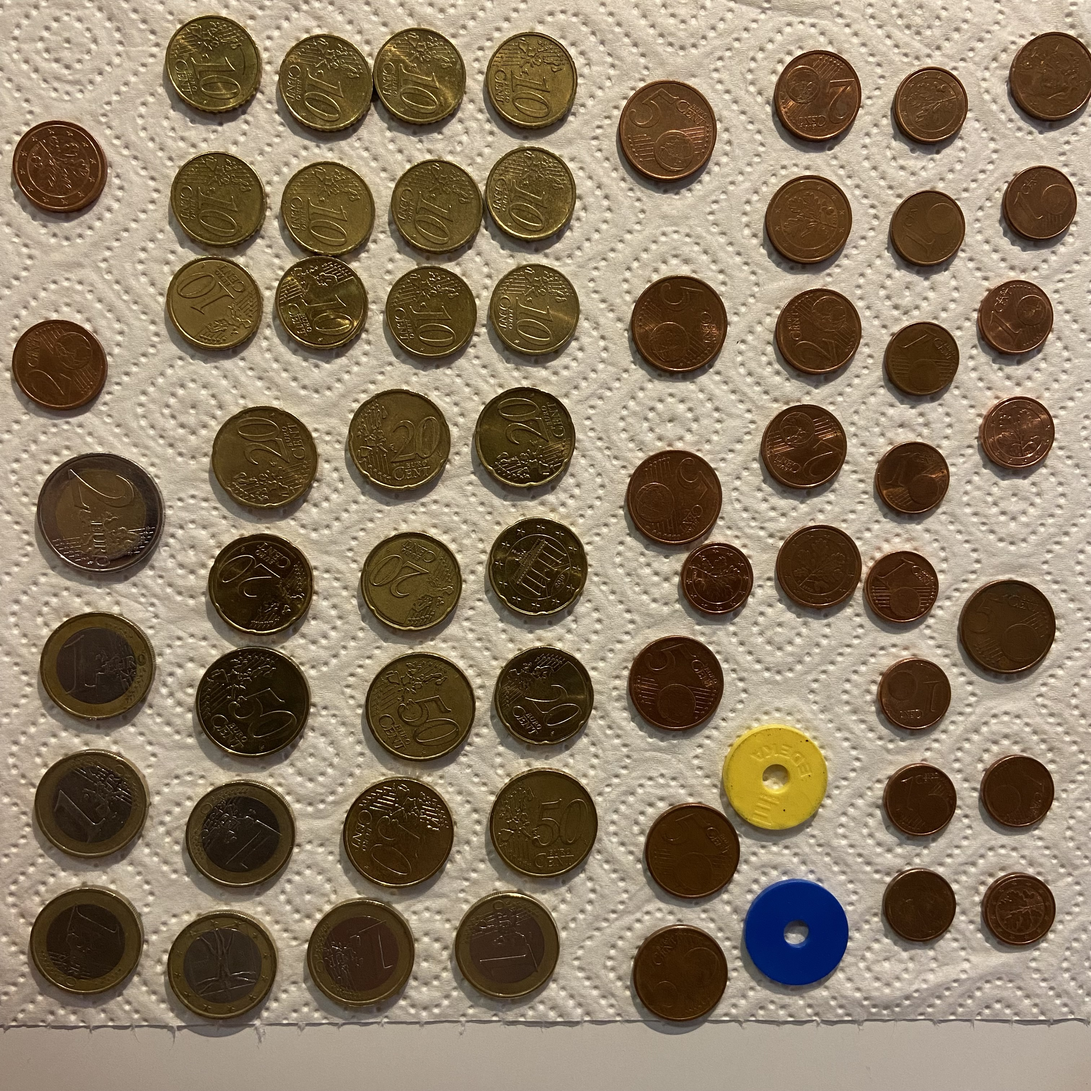1 cent: (889, 187, 967, 265), (884, 319, 962, 397), (975, 280, 1053, 358), (980, 392, 1058, 470), (874, 438, 952, 516), (863, 548, 941, 626), (892, 67, 968, 144), (1002, 166, 1077, 240), (884, 765, 958, 838), (981, 870, 1055, 943), (883, 869, 957, 942), (877, 658, 951, 730), (980, 756, 1054, 828), (681, 542, 753, 615)
1 euro: (34, 750, 149, 858), (40, 613, 155, 719), (30, 887, 143, 994), (303, 899, 413, 1008), (167, 911, 277, 1019), (455, 892, 564, 1000), (186, 781, 295, 886)
10 cent: (165, 16, 262, 113), (170, 152, 266, 246), (164, 255, 260, 349), (279, 34, 372, 131), (373, 28, 466, 124), (486, 32, 578, 128), (281, 162, 375, 255), (275, 256, 368, 349), (485, 146, 576, 241), (391, 160, 482, 253), (386, 266, 477, 358), (489, 264, 579, 355)
2 cent: (762, 176, 855, 268), (770, 50, 863, 142), (13, 121, 107, 212), (12, 320, 107, 410), (776, 288, 862, 374), (1009, 32, 1091, 121), (761, 404, 847, 488), (775, 523, 861, 606)
2 euro: (37, 452, 165, 573), (30, 887, 143, 994)
20 cent: (195, 647, 310, 757), (211, 406, 317, 508), (208, 534, 313, 635), (348, 389, 450, 490), (474, 387, 575, 487), (361, 532, 461, 631), (487, 518, 588, 616), (488, 518, 588, 616), (495, 647, 593, 745), (628, 636, 724, 731), (170, 152, 266, 246), (12, 320, 107, 410)
5 cent: (618, 80, 717, 180), (495, 647, 593, 745), (631, 276, 728, 372), (958, 579, 1056, 674), (628, 636, 724, 731), (626, 450, 722, 545), (645, 803, 740, 898), (631, 924, 726, 1019)
50 cent: (343, 778, 454, 888), (488, 769, 599, 879), (365, 653, 475, 761)
